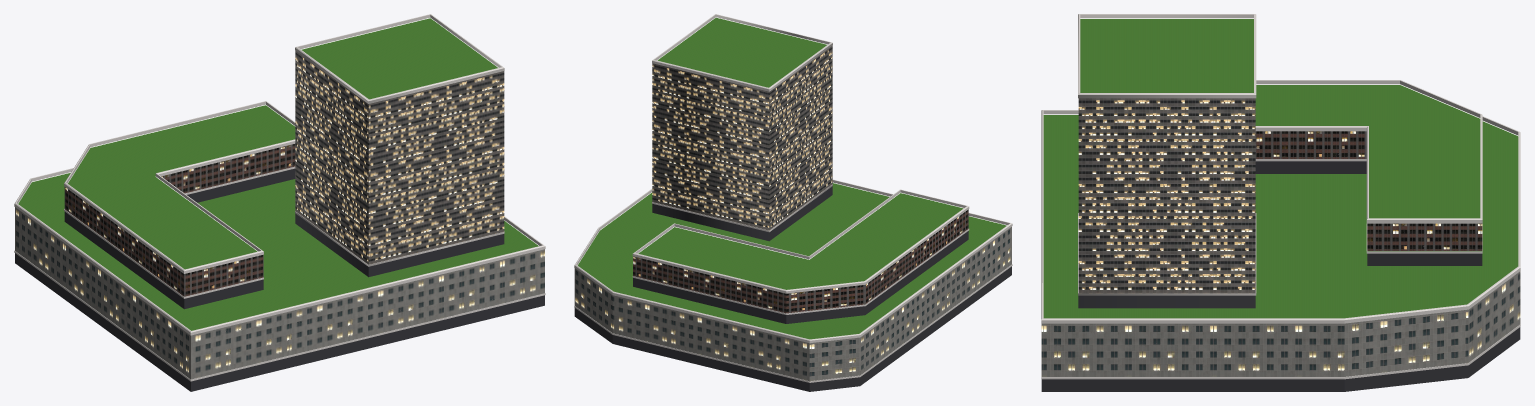
File: building corporate.glb
3 renders of one model, left to right at view 1: azimuth 30°, elevation 25°; view 2: azimuth 150°, elevation 25°; view 3: azimuth 270°, elevation 25°, orthographic. The views are drawn at different scales.
Visible parts, largest first — view 1: buildings; view 2: buildings; view 3: buildings.
Part boxes in pixels (left/top/right/bottom): buildings: left=14, top=14, right=545, bottom=391; buildings: left=574, top=14, right=1012, bottom=391; buildings: left=1041, top=14, right=1520, bottom=391.
Bounding box in the file's own units: 105 × 66 × 101.
7 materials, 4 textured.
